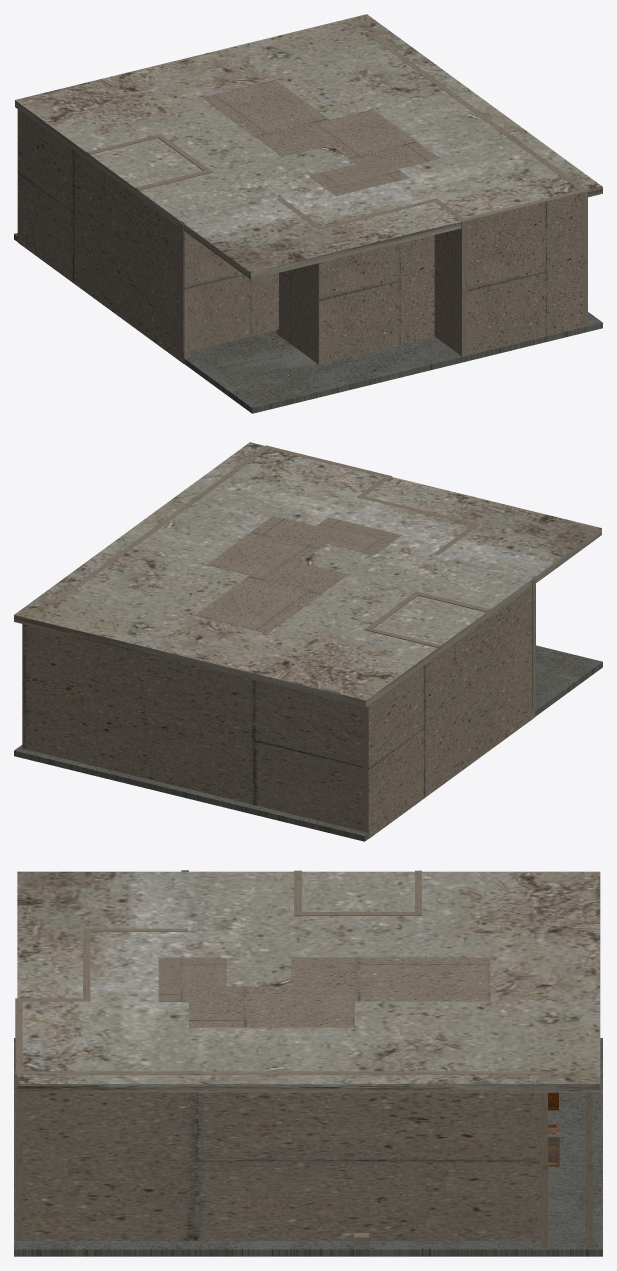
The model's file is area3.dae.
The picture shows the model from 3 angles, top to bottom: view 1: azimuth 30°, elevation 25°; view 2: azimuth 150°, elevation 25°; view 3: azimuth 270°, elevation 25°; orthographic projection. The views are drawn at different scales.
Visible parts, largest first — view 1: ceiling; view 2: ceiling; view 3: ceiling.
Part boxes in pixels (<box>): ceiling: <box>14,14,602,413</box>; ceiling: <box>14,442,602,841</box>; ceiling: <box>14,870,602,1256</box>.
Bounding box in the file's own units: 151 × 176 × 57.68.
15 materials, 15 textured.
